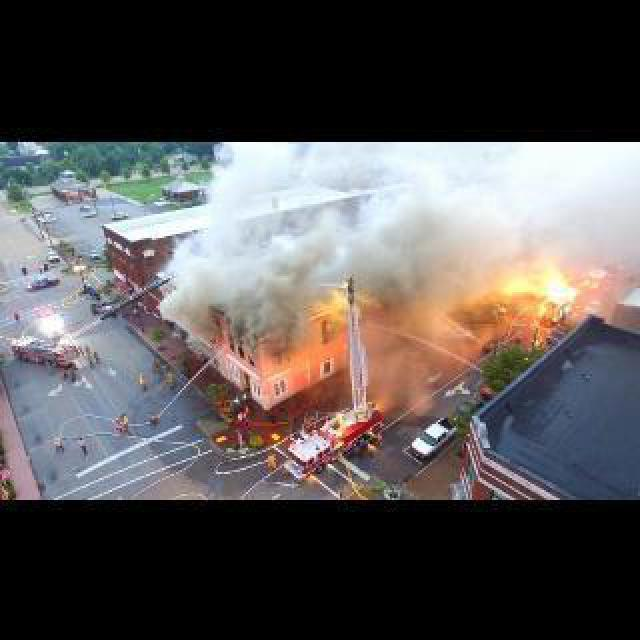Fire: (504, 258, 566, 312)
Smoke: (160, 140, 496, 344)
